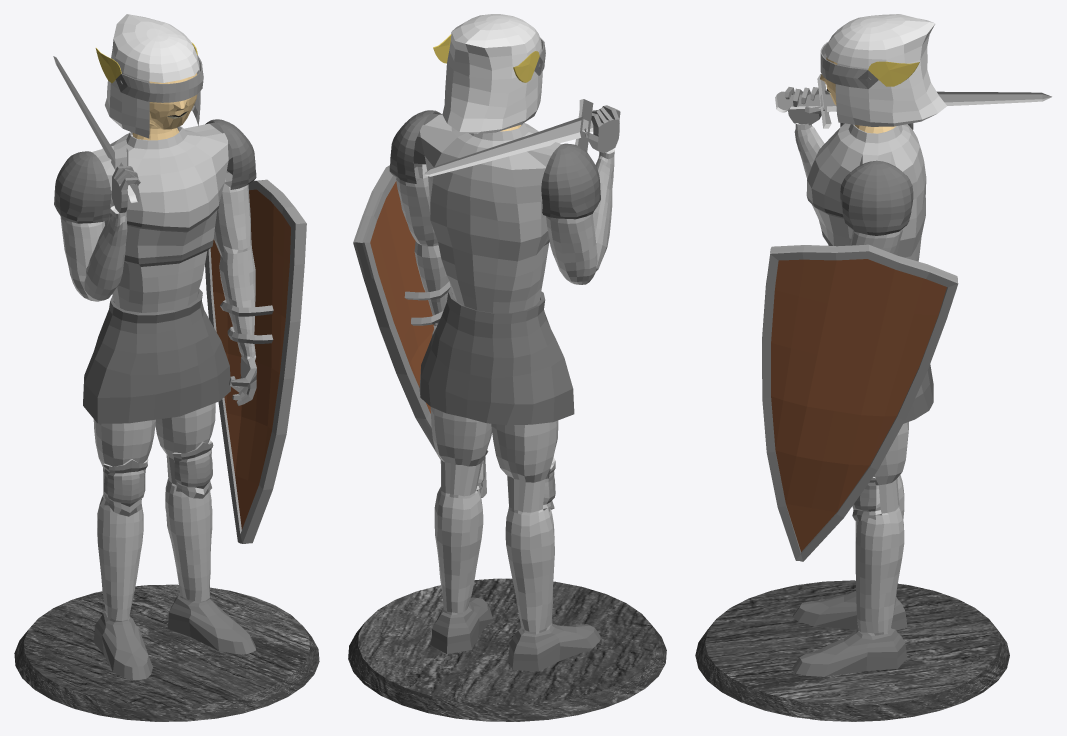
The model's file is caballeroModelov3.glb.
The picture shows the model from 3 angles, left to right: view 1: azimuth 30°, elevation 25°; view 2: azimuth 150°, elevation 25°; view 3: azimuth 270°, elevation 25°; orthographic projection. The views are drawn at different scales.
Visible parts, largest first — view 1: torso; view 2: torso; view 3: torso.
Part boxes in pixels (left/top/right/bottom): torso: left=14, top=14, right=319, bottom=721; torso: left=348, top=14, right=666, bottom=721; torso: left=695, top=14, right=1051, bottom=721.
Bounding box in the file's own units: 0.7354 × 1.64 × 0.835.
12 materials, 1 textured.
